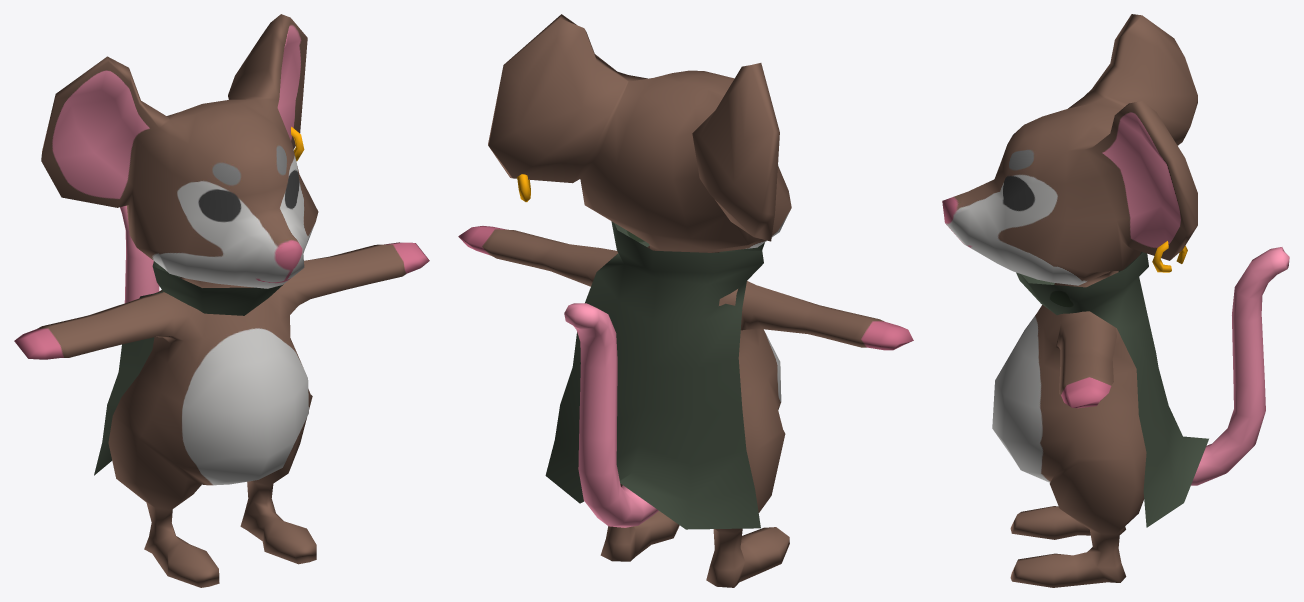
File: RATON TEXTURIZADO.obj
The picture shows the model from 3 angles, left to right: view 1: azimuth 30°, elevation 25°; view 2: azimuth 150°, elevation 25°; view 3: azimuth 270°, elevation 25°; orthographic projection. The views are drawn at different scales.
Visible parts, largest first — view 1: raton_capa; view 2: raton_capa; view 3: raton_capa.
Part boxes in pixels (x1,y1,x2,y2): raton_capa: (14, 14, 429, 587); raton_capa: (458, 14, 913, 587); raton_capa: (942, 14, 1289, 587).
Size of the model in its own units: 0.2479 by 0.2897 by 0.1843.
1 material, 1 textured.
